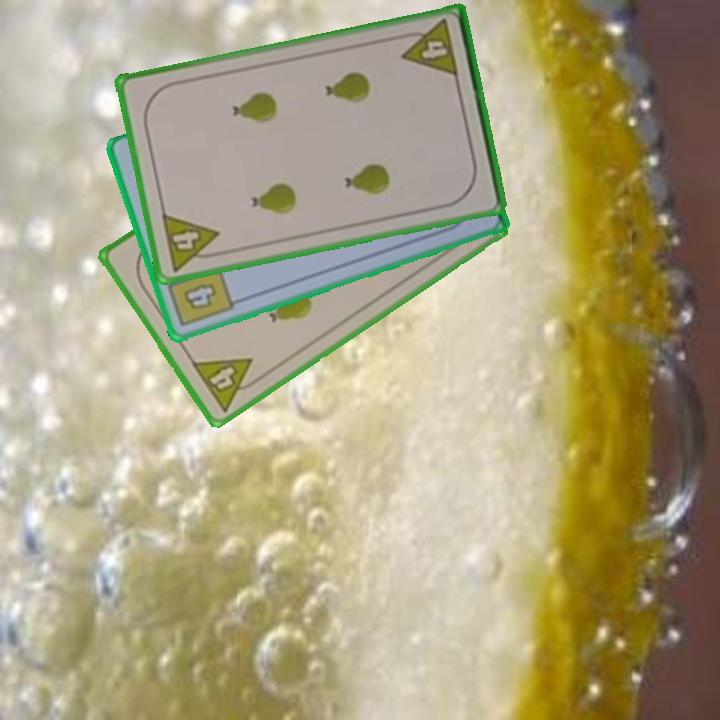4b: (163, 263, 237, 330)
4p: (187, 354, 267, 415), (158, 210, 226, 274), (395, 16, 461, 81)
